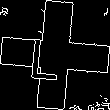L_N: (37, 28, 73, 82)
